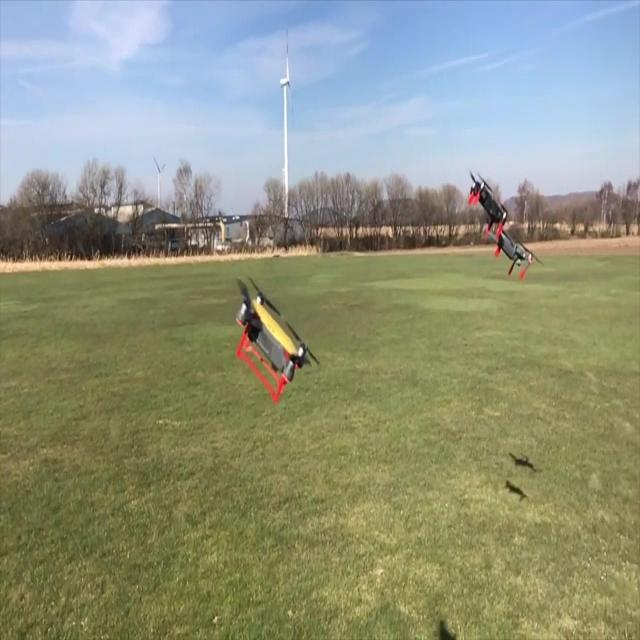UAV: (236, 276, 320, 406), (486, 222, 544, 281), (468, 170, 508, 239)
